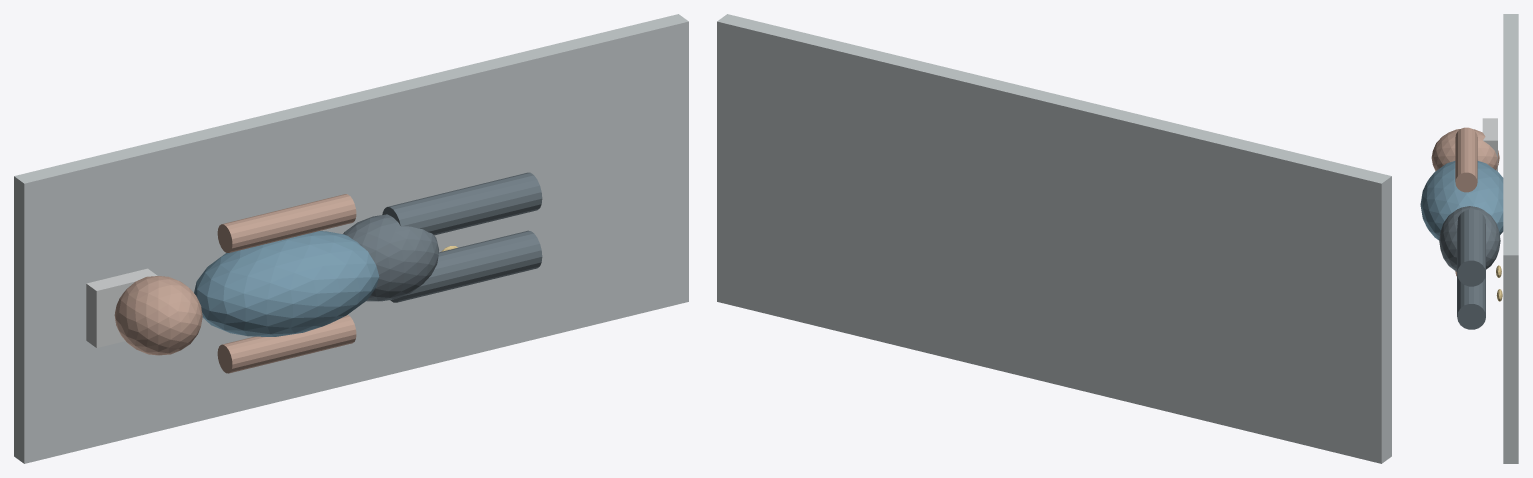
File: lateral-medium.glb
3 views of the same model, side by side, from view 1: azimuth 30°, elevation 25°; view 2: azimuth 150°, elevation 25°; view 3: azimuth 270°, elevation 25° (orthographic). The views are drawn at different scales.
Visible parts, largest first — view 1: reference_surface, torso, right_leg, head, pelvis, left_leg, right_arm, left_arm, head_support_proxy; view 2: reference_surface; view 3: reference_surface, torso, right_leg, pelvis, right_arm, left_leg, head, head_support_proxy.
Part boxes in pixels (box(x1,y1,x2,y2)): reference_surface: box(14, 14, 688, 463); torso: box(194, 231, 379, 336); right_leg: box(382, 172, 542, 235); head: box(114, 276, 202, 355); pelvis: box(343, 214, 438, 301); left_leg: box(390, 230, 542, 302); right_arm: box(217, 194, 356, 252); left_arm: box(217, 315, 356, 373); head_support_proxy: box(86, 268, 157, 347); reference_surface: box(717, 14, 1391, 463); reference_surface: box(1503, 14, 1518, 463); torso: box(1420, 161, 1503, 240); right_leg: box(1457, 209, 1485, 286); pelvis: box(1439, 206, 1500, 271); right_arm: box(1455, 127, 1477, 192); left_leg: box(1457, 274, 1485, 329); head: box(1431, 129, 1499, 171); head_support_proxy: box(1482, 118, 1497, 171).
Size of the model in its own units: 6.7 by 2.7 by 1.15.
